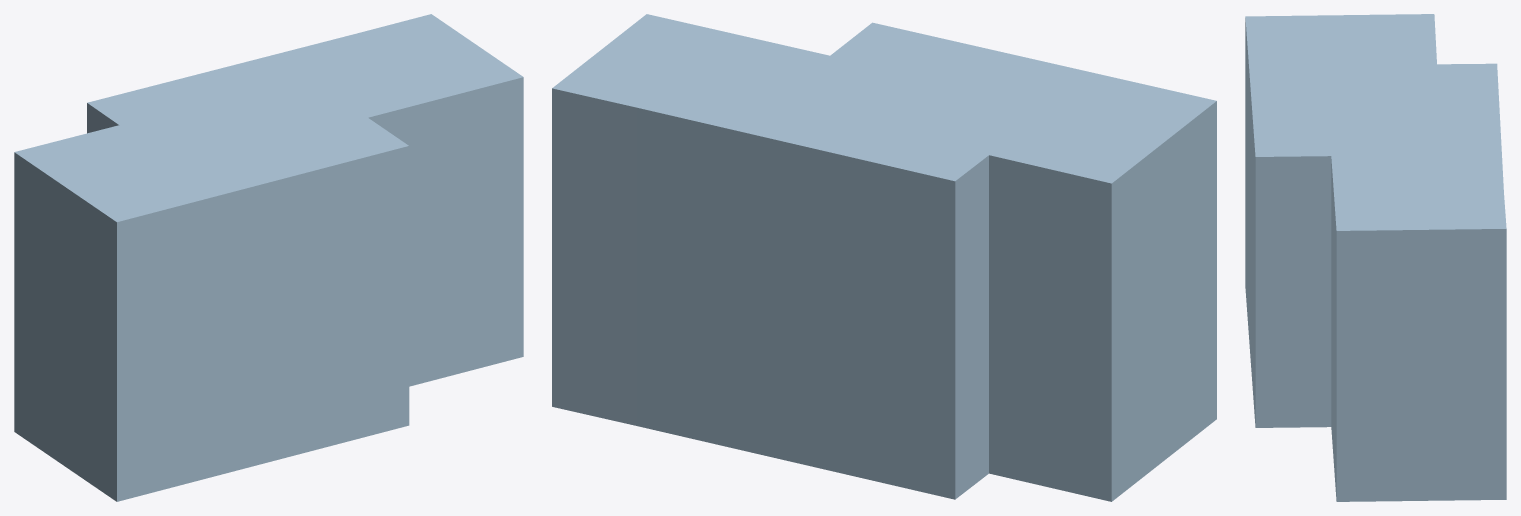
The model's file is osm_way_223859832.glb.
3 renders of one model, left to right at view 1: azimuth 30°, elevation 25°; view 2: azimuth 150°, elevation 25°; view 3: azimuth 270°, elevation 25°, orthographic. The views are drawn at different scales.
Visible parts, largest first — view 1: osm_way_223859832; view 2: osm_way_223859832; view 3: osm_way_223859832.
Part boxes in pixels (x1,y1,x2,y2): osm_way_223859832: (14, 14, 523, 501); osm_way_223859832: (552, 14, 1216, 501); osm_way_223859832: (1245, 14, 1506, 501).
Bounding box in the file's own units: 32.97 × 19.2 × 16.77.
